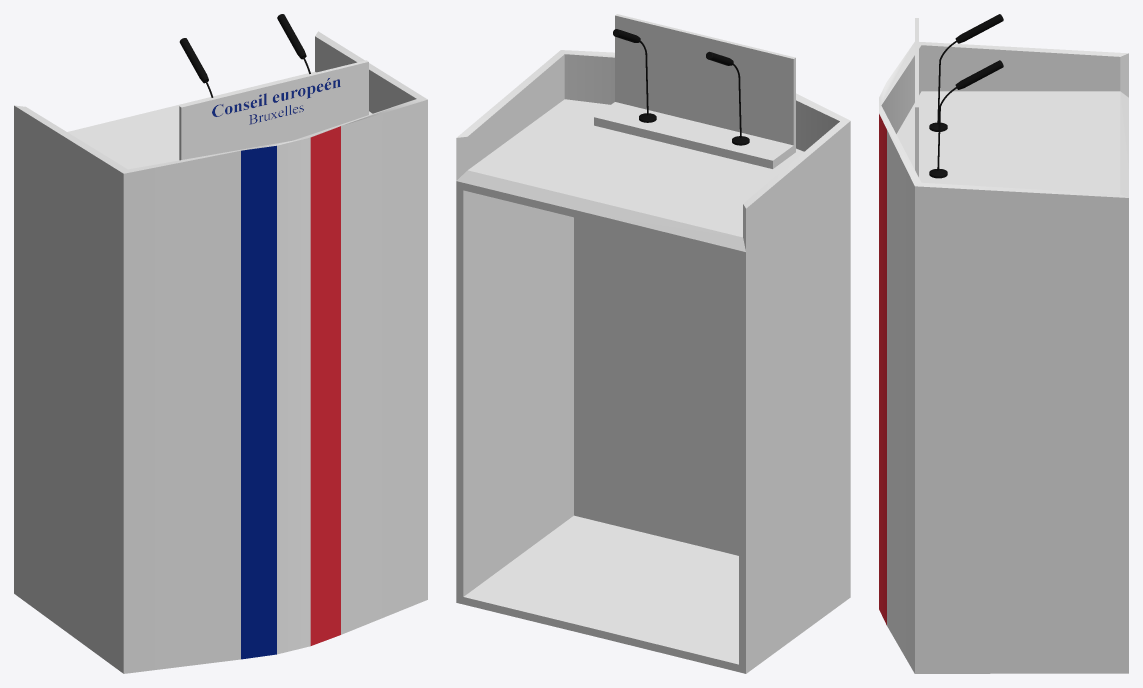
The model's file is Presidential French podium.fbx.
3 renders of one model, left to right at view 1: azimuth 30°, elevation 25°; view 2: azimuth 150°, elevation 25°; view 3: azimuth 270°, elevation 25°, orthographic. The views are drawn at different scales.
Parts seen in each view (by area): view 1: Presidential French podium; view 2: Presidential French podium; view 3: Presidential French podium.
Part boxes in pixels (x1,y1,x2,y2): Presidential French podium: (14, 14, 427, 673); Presidential French podium: (456, 14, 850, 673); Presidential French podium: (879, 14, 1128, 673).
Size of the model in its own units: 31.5 by 57.26 by 22.97.
Materials: 2 (2 with a texture image).
